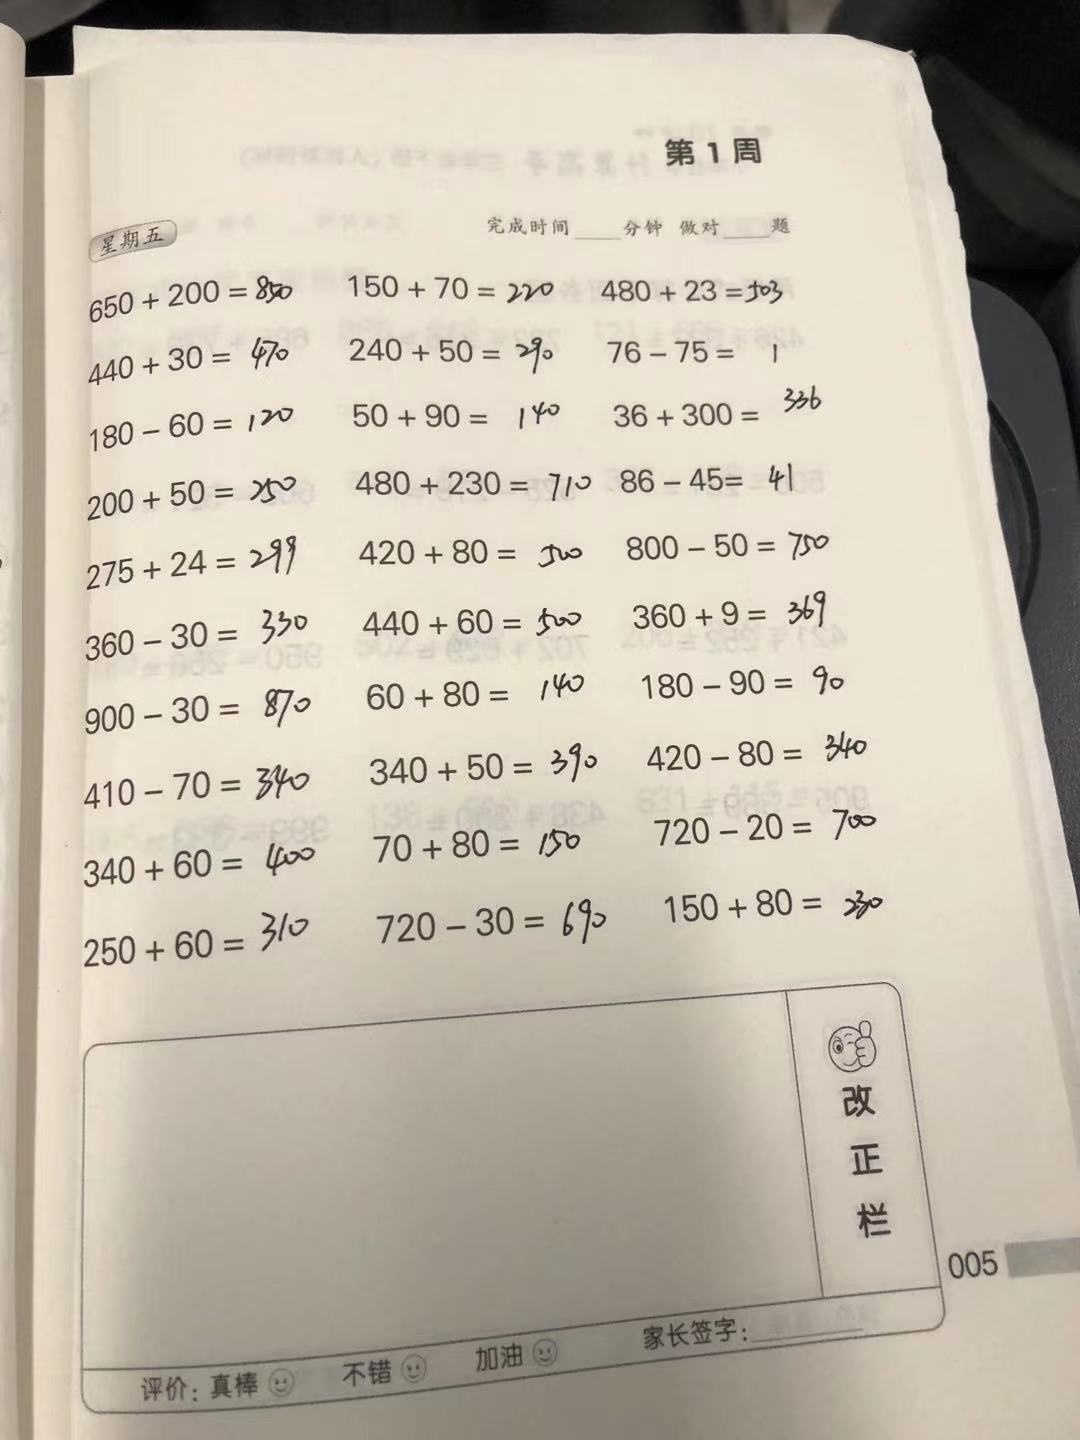equation: (67, 903, 336, 979), (371, 888, 625, 962), (77, 533, 337, 601), (76, 828, 331, 895), (79, 467, 330, 535), (79, 678, 341, 742), (74, 753, 324, 816), (77, 604, 331, 664), (653, 878, 910, 935), (641, 725, 891, 783), (653, 799, 917, 855), (351, 525, 605, 582), (364, 815, 608, 873), (76, 336, 322, 392), (348, 459, 610, 510), (81, 404, 334, 456), (76, 276, 327, 328), (639, 658, 874, 713), (362, 742, 616, 793), (348, 328, 584, 382), (611, 384, 836, 438), (627, 588, 857, 639), (344, 262, 567, 313), (362, 672, 607, 718), (348, 395, 596, 438), (356, 605, 607, 647), (625, 520, 844, 565), (601, 330, 807, 375), (596, 268, 807, 310), (614, 456, 816, 499)
